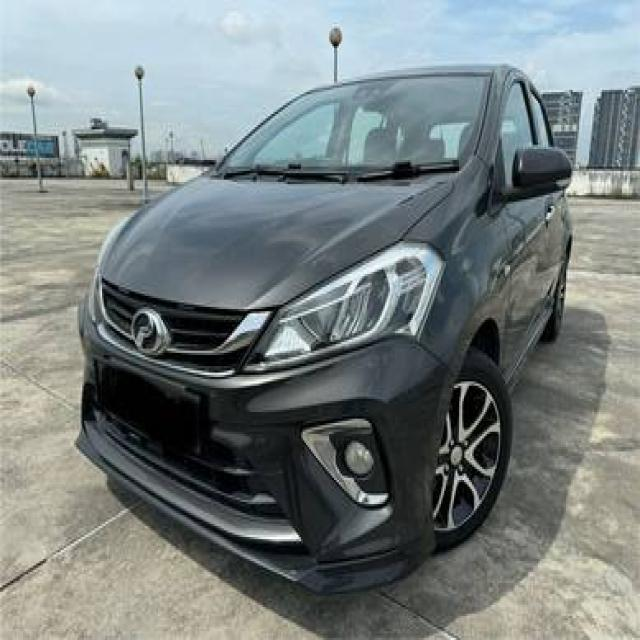PeroduaMyvi: (72, 53, 574, 596)
